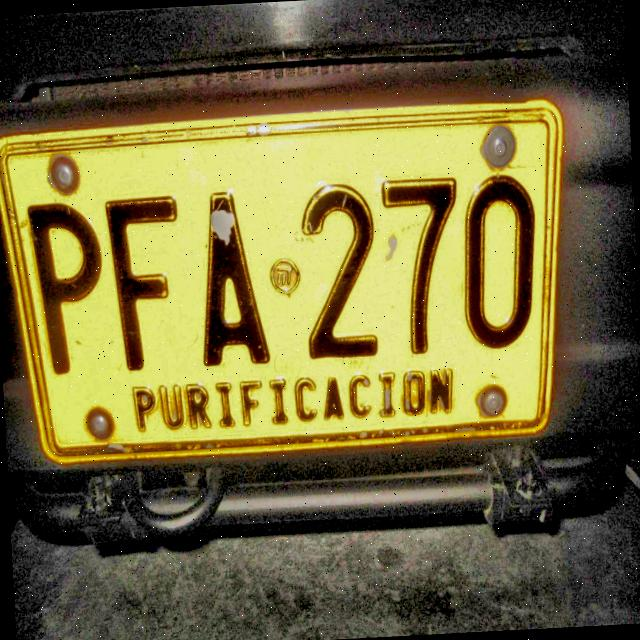plate: (0, 100, 563, 464)
